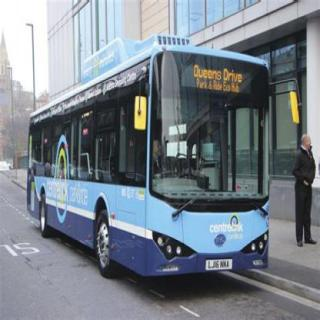Normal_vehicle: (18, 24, 298, 287)
